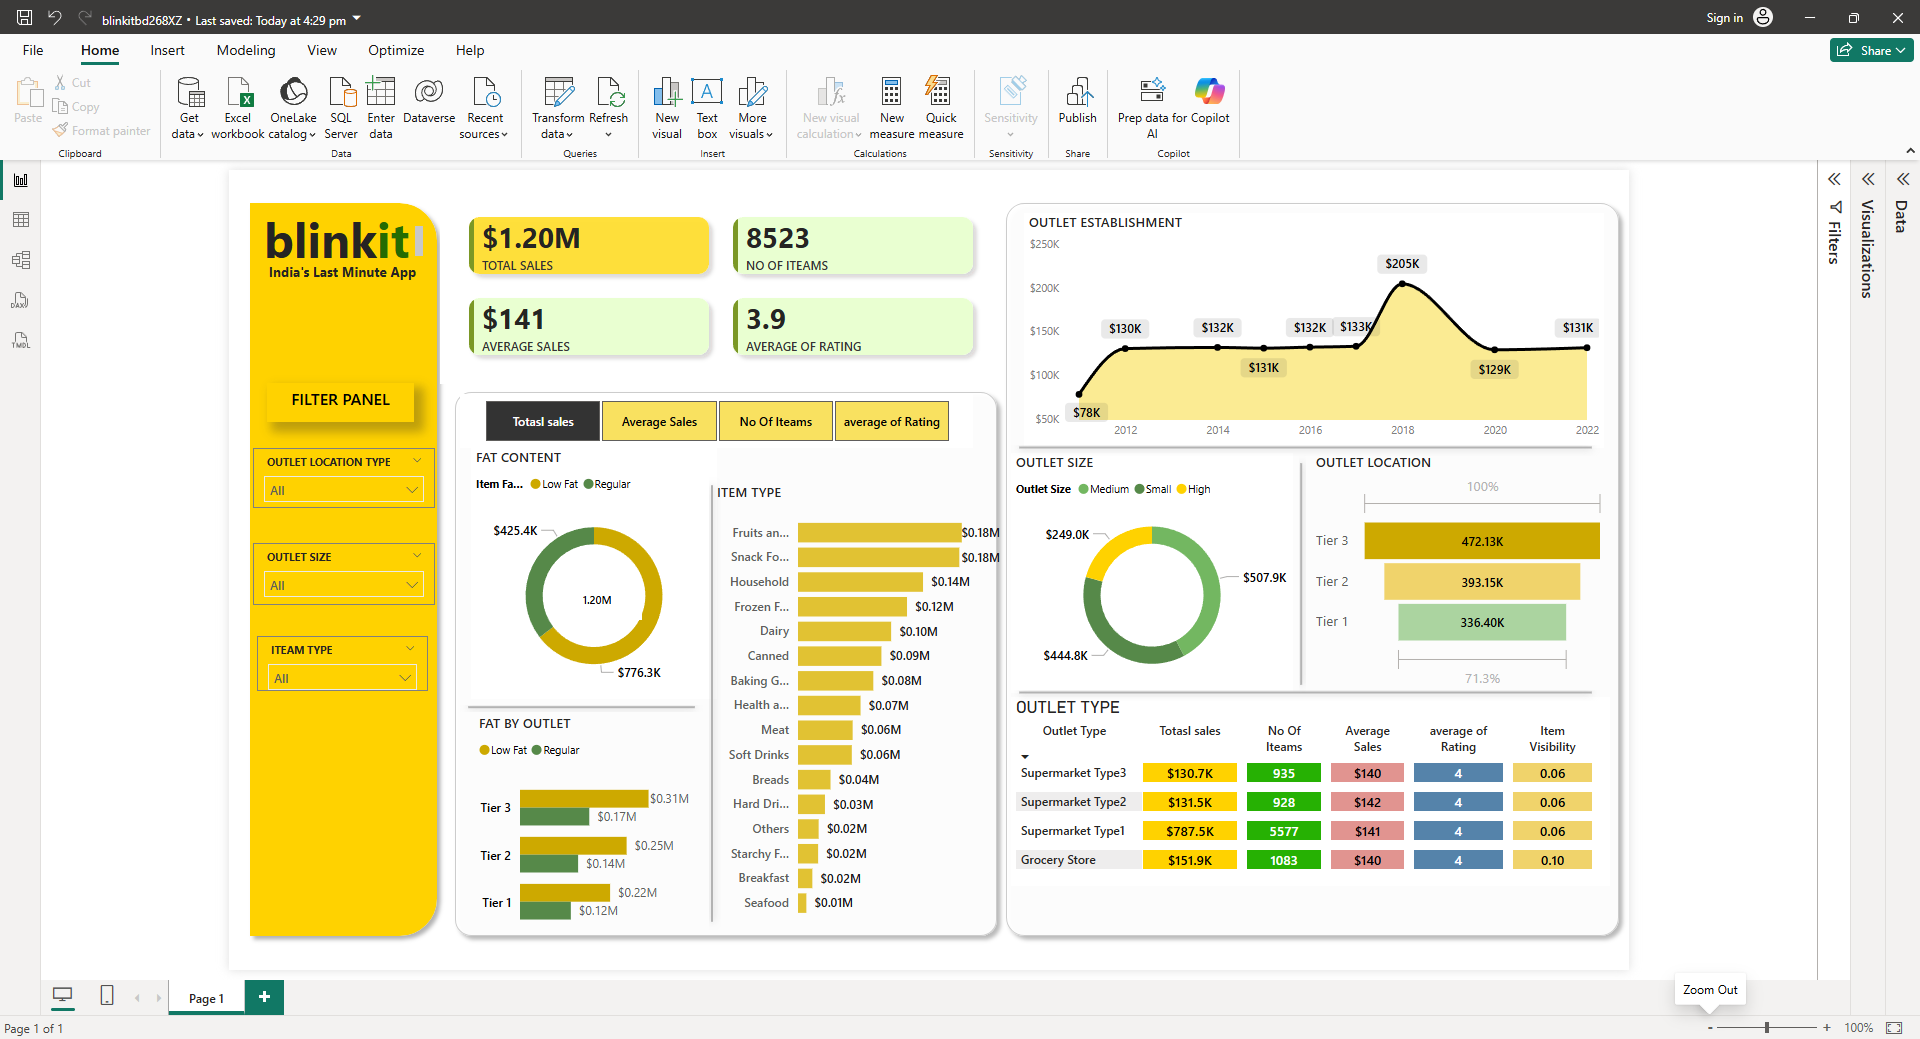

The dashboard page shown, as its layout file describes it:
{"tool":"powerbi","page":{"name":"Page 1","canvas":[1400,800],"ordinal":0},"visuals":[{"type":"shape","box":[11.7,24.4,204.9,750.2],"z":0},{"type":"textbox","box":[24.4,42.9,174.6,53.7],"z":1000},{"type":"textbox","box":[28.3,87.8,170.7,28.3],"z":2000},{"type":"cardVisual","fields":{"Data":["BlinkIT Grocery Data.Totasl sales","BlinkIT Grocery Data.Average Sales","BlinkIT Grocery Data.No Of Iteams","BlinkIT Grocery Data.average of Rating"]},"box":[210.7,17.6,562,196.1],"z":3000},{"type":"shape","box":[216.6,212.7,560,562],"z":4000},{"type":"donutChart","title":"FAT CONTENT","fields":{"Y":["BlinkIT Grocery Data.Totasl sales"],"Category":["BlinkIT Grocery Data.Item Fat Content"]},"box":[242,278,245.9,250.7],"z":5000},{"type":"slicer","fields":{"Values":["Metrics.Metrics"]},"box":[231.2,224.4,513.2,53.7],"z":6000},{"type":"cardVisual","fields":{"Data":["BlinkIT Grocery Data.Totasl sales"]},"box":[318,403.9,99.5,50.7],"z":7000},{"type":"clusteredBarChart","title":"FAT BY OUTLET","fields":{"Y":["BlinkIT Grocery Data.Totasl sales"],"Category":["BlinkIT Grocery Data.Outlet Location Type"],"Series":["BlinkIT Grocery Data.Item Fat Content"]},"box":[244.9,544.4,220.5,230.2],"z":8000},{"type":"barChart","title":"ITEM TYPE","fields":{"Y":["BlinkIT Grocery Data.Totasl sales"],"Category":["BlinkIT Grocery Data.Item Type"]},"box":[482.9,313.2,292.7,444.9],"z":9000},{"type":"shape","box":[767.8,24.4,631.2,750.2],"z":10000},{"type":"lineChart","title":"OUTLET ESTABLISHMENT","fields":{"Y":["BlinkIT Grocery Data.Totasl sales"],"Category":["BlinkIT Grocery Data.Outlet Establishment Year"]},"box":[795.1,42.9,579.5,235.1],"z":11000},{"type":"donutChart","title":"OUTLET SIZE","fields":{"Y":["BlinkIT Grocery Data.Totasl sales"],"Category":["BlinkIT Grocery Data.Outlet Size"]},"box":[782.4,282.9,282,240],"z":12000},{"type":"funnel","title":"OUTLET LOCATION","fields":{"Y":["Sum(BlinkIT Grocery Data.Sales)"],"Category":["BlinkIT Grocery Data.Outlet Location Type"]},"box":[1082,282.9,299.5,240],"z":13000},{"type":"pivotTable","title":"OUTLET TYPE","fields":{"Rows":["BlinkIT Grocery Data.Outlet Type"],"Values":["BlinkIT Grocery Data.Totasl sales","BlinkIT Grocery Data.No Of Iteams","BlinkIT Grocery Data.Average Sales","BlinkIT Grocery Data.average of Rating","Avg(BlinkIT Grocery Data.Item Visibility)"]},"box":[782.4,526.8,599,189.3],"z":14000},{"type":"shape","box":[474.1,307.3,17.6,452.7],"z":15000},{"type":"shape","box":[782.4,514.1,588.3,16.6],"z":16000},{"type":"shape","box":[1064.4,284.9,12.7,238],"z":17000},{"type":"shape","box":[231.2,528.8,242.9,13.7],"z":18000},{"type":"shape","box":[782.4,269.3,588.3,16.6],"z":19000},{"type":"slicer","fields":{"Values":["BlinkIT Grocery Data.Outlet Location Type"]},"box":[24.4,278,181.5,59.5],"z":20000},{"type":"slicer","fields":{"Values":["BlinkIT Grocery Data.Outlet Size"]},"box":[24.4,372.7,181.5,62.4],"z":21000},{"type":"slicer","fields":{"Values":["BlinkIT Grocery Data.Item Type"]},"box":[28.3,466.3,170.7,54.6],"z":22000},{"type":"textbox","box":[38,212.7,147.3,39],"z":23000}]}

Visuals, with their boxes on the page's 1400x800 design canvas (x1, y1, x2, y2). These are canvas units, not pixel positions in the 1920x1039 screenshot, which may show the page scaled, cropped or inside an application window:
shape: 12 24 217 775
textbox: 24 43 199 97
textbox: 28 88 199 116
cardVisual - BlinkIT Grocery Data.Totasl sales x BlinkIT Grocery Data.Average Sales: 211 18 773 214
shape: 217 213 777 775
"FAT CONTENT" donutChart: 242 278 488 529
slicer - Metrics.Metrics: 231 224 744 278
cardVisual - BlinkIT Grocery Data.Totasl sales: 318 404 418 455
"FAT BY OUTLET" clusteredBarChart: 245 544 465 775
"ITEM TYPE" barChart: 483 313 776 758
shape: 768 24 1399 775
"OUTLET ESTABLISHMENT" lineChart: 795 43 1375 278
"OUTLET SIZE" donutChart: 782 283 1064 523
"OUTLET LOCATION" funnel: 1082 283 1382 523
"OUTLET TYPE" pivotTable: 782 527 1381 716
shape: 474 307 492 760
shape: 782 514 1371 531
shape: 1064 285 1077 523
shape: 231 529 474 542
shape: 782 269 1371 286
slicer - BlinkIT Grocery Data.Outlet Location Type: 24 278 206 338
slicer - BlinkIT Grocery Data.Outlet Size: 24 373 206 435
slicer - BlinkIT Grocery Data.Item Type: 28 466 199 521
textbox: 38 213 185 252
